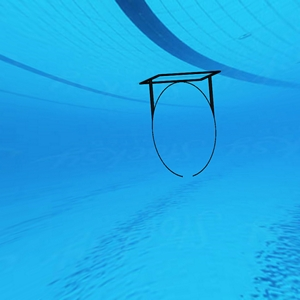circle: (138, 69, 223, 180)
